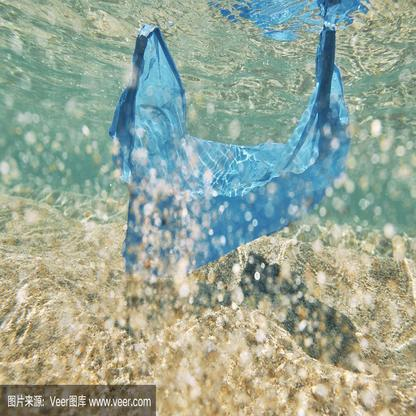plastic bag: (110, 22, 349, 281)
